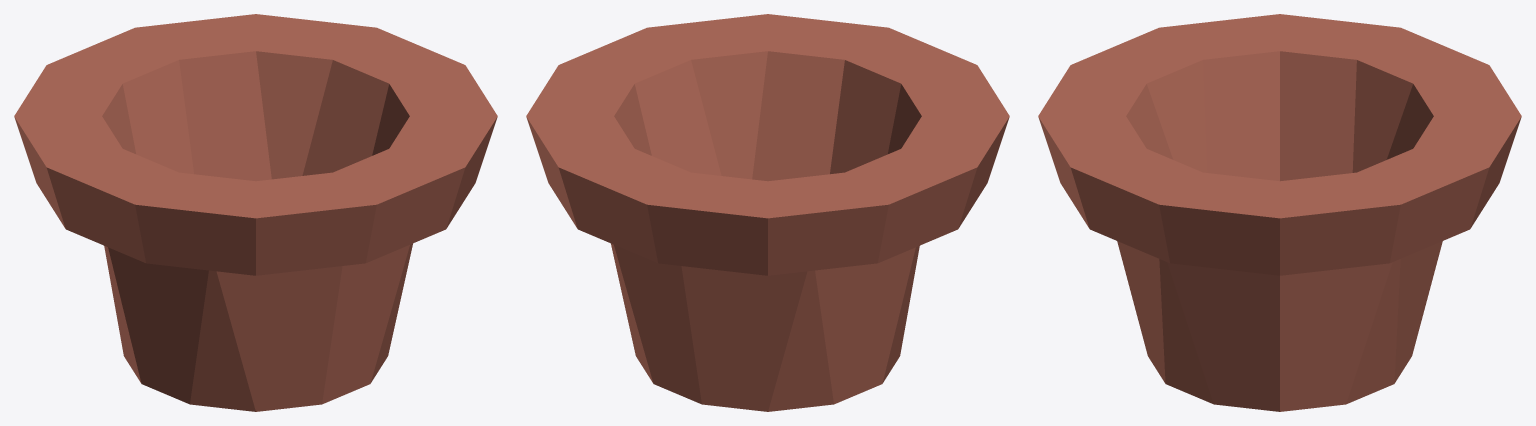
Rendered from pot-small.glb.
3 views of the same model, side by side, from view 1: azimuth 30°, elevation 25°; view 2: azimuth 150°, elevation 25°; view 3: azimuth 270°, elevation 25° (orthographic).
Visible parts, largest first — view 1: pot_7.001; view 2: pot_7.001; view 3: pot_7.001.
Boxes of the visible parts, bbox=[...] form: pot_7.001: bbox=[14, 14, 497, 411]; pot_7.001: bbox=[526, 14, 1009, 411]; pot_7.001: bbox=[1038, 14, 1521, 411].
Size of the model in its own units: 0.2465 by 0.1349 by 0.2465.
